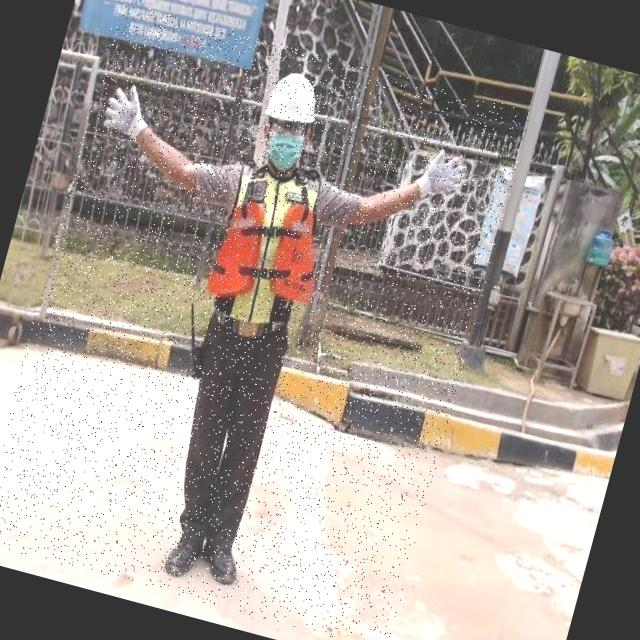boots: (160, 525, 206, 584), (192, 540, 245, 590)
gloves: (402, 132, 484, 209), (91, 70, 158, 146)
helmet: (263, 67, 325, 128)
vest: (200, 158, 342, 334)
